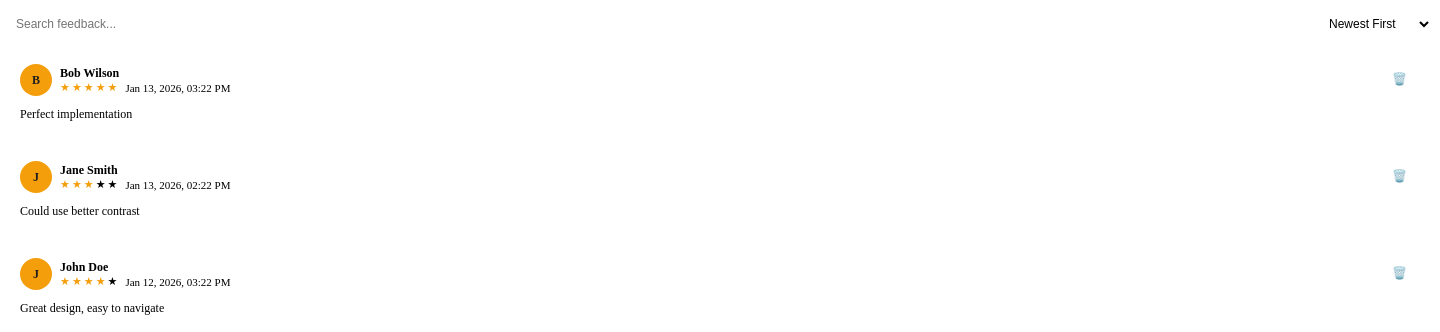
Test: FeedbackHistory › filters entries by search query
The width and height of the screenshot is (1440, 332).
In the field with placeholder "Search feedback...": (656, 24) [8,8,1305,40], type "John"
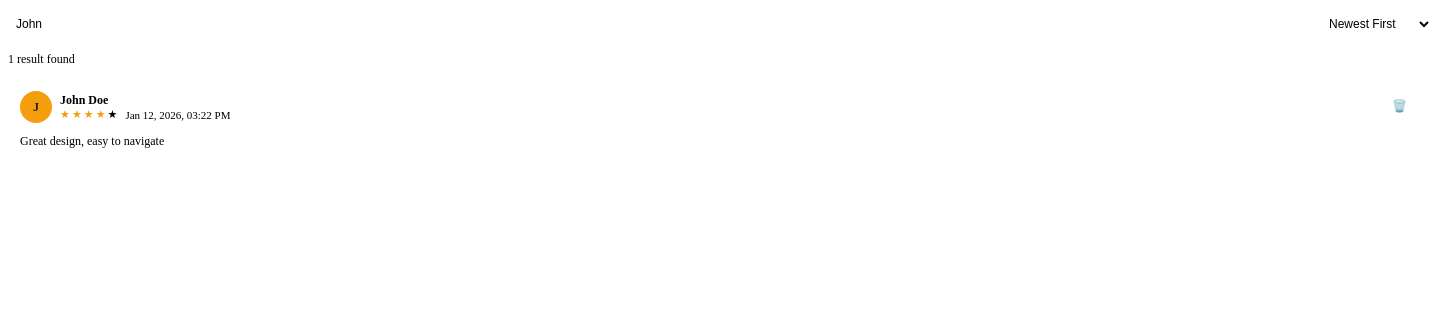
Expected: the text "John Doe" is shown, [60,93,108,107]
Expected: the text "Jane Smith" is gone
Expected: the text "Bob Wilson" is gone
